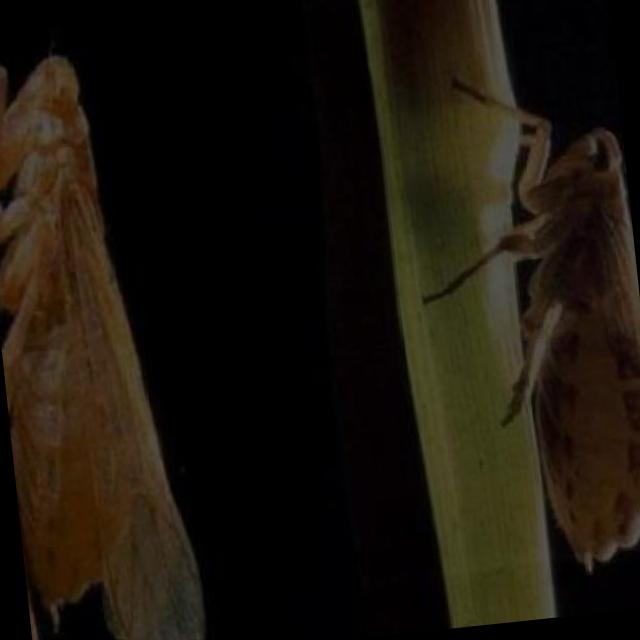brown-planthopper: (0, 41, 201, 640), (499, 87, 640, 581)
